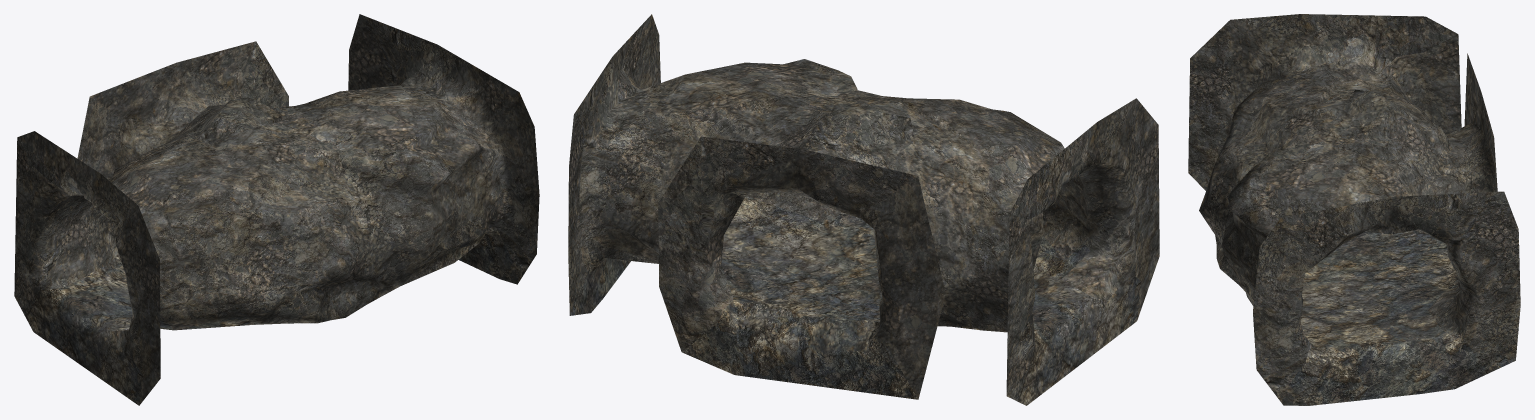
File: Cave36.fbx
3 views of the same model, side by side, from view 1: azimuth 30°, elevation 25°; view 2: azimuth 150°, elevation 25°; view 3: azimuth 270°, elevation 25° (orthographic). The views are drawn at different scales.
Visible parts, largest first — view 1: Cave36; view 2: Cave36; view 3: Cave36.
Boxes of the visible parts, box(x1,y1,x2,y2) form: Cave36: box(14, 14, 539, 405); Cave36: box(568, 14, 1159, 405); Cave36: box(1188, 14, 1520, 405).
Size of the model in its own units: 104 by 50.11 by 73.03.
